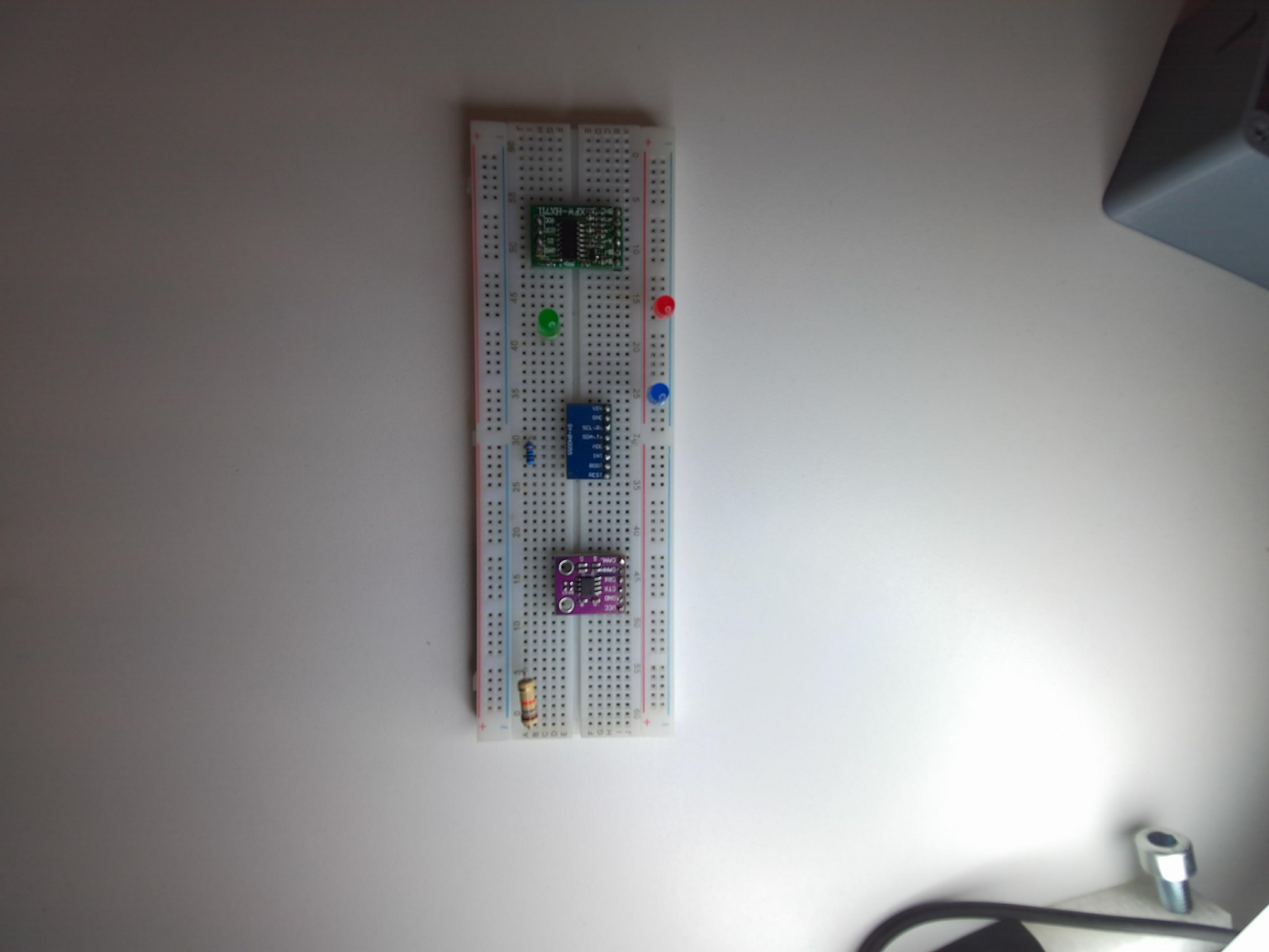base: (461, 97, 676, 742)
blue-board: (564, 397, 617, 481)
blue-led: (644, 378, 672, 408)
green-board: (525, 192, 629, 274)
green-led: (538, 309, 561, 338)
purple-board: (552, 549, 627, 616)
red-led: (652, 289, 677, 320)
resistor-big: (516, 676, 543, 730)
resistor-small: (522, 437, 537, 469)
